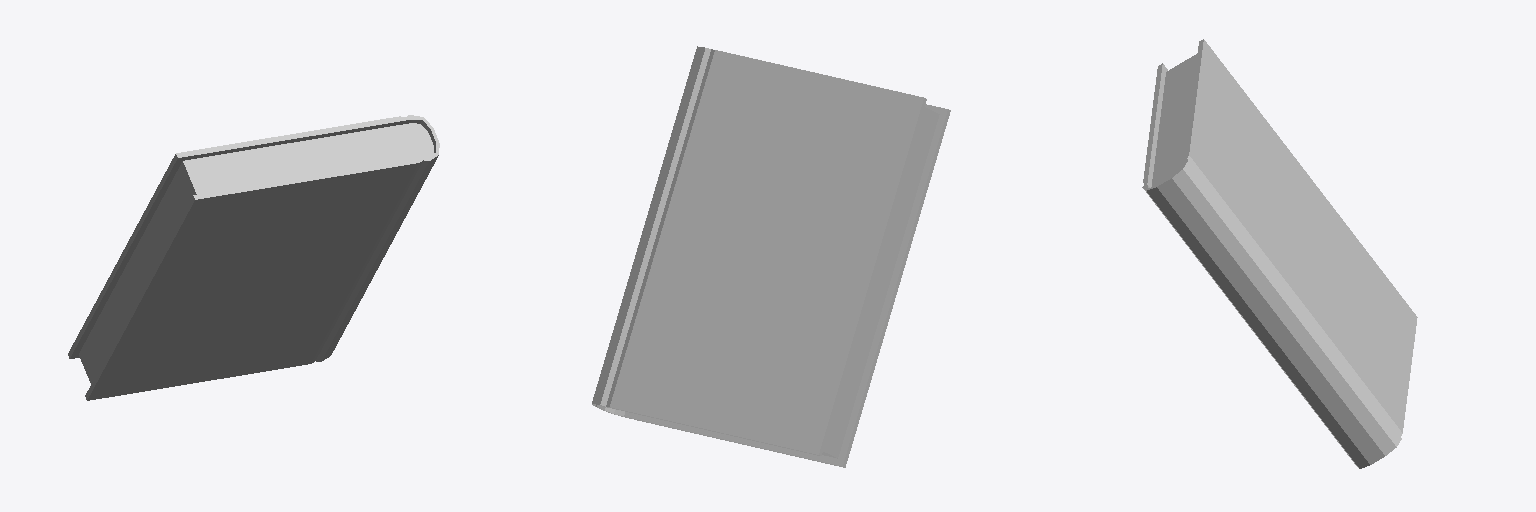
The model's file is russian_for_dummies.obj.
3 renders of one model, left to right at view 1: azimuth 30°, elevation 25°; view 2: azimuth 150°, elevation 25°; view 3: azimuth 270°, elevation 25°, orthographic.
Visible parts, largest first — view 1: Cube.010; view 2: Cube.010; view 3: Cube.010.
Part boxes in pixels (bbox=[...]): Cube.010: bbox=[68, 115, 439, 400]; Cube.010: bbox=[592, 46, 950, 467]; Cube.010: bbox=[1142, 39, 1417, 468].
Bounding box in the file's own units: 0.3868 × 0.4782 × 0.3742.